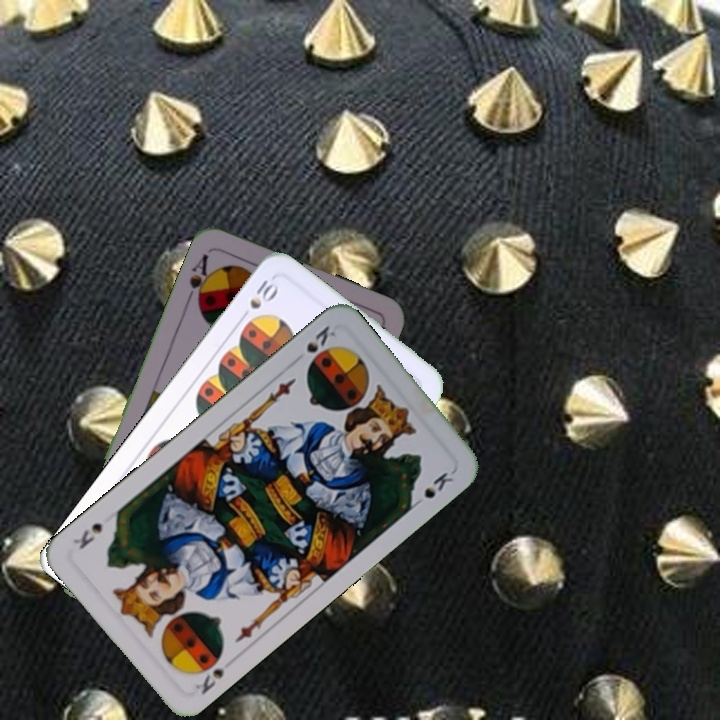S10: (235, 273, 282, 324)
SA: (183, 250, 217, 308)
SK: (190, 653, 238, 697), (302, 321, 339, 356)
